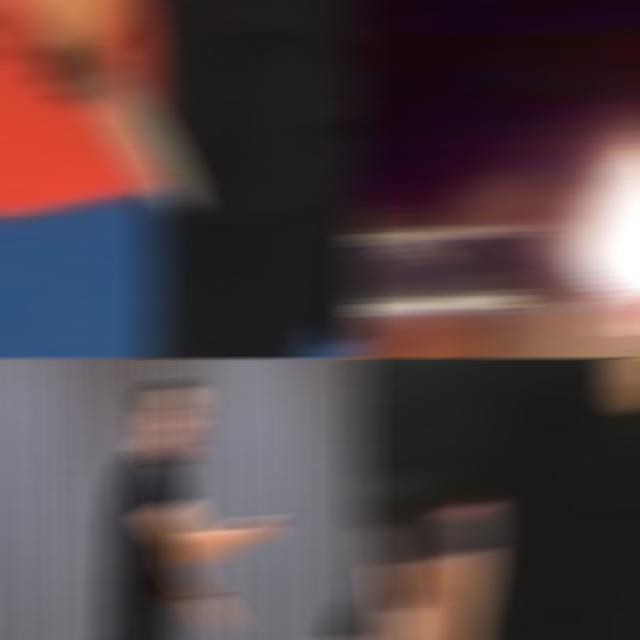Knife: (78, 54, 196, 214)
Knife_Handle: (349, 95, 640, 350), (4, 0, 196, 213), (235, 510, 284, 545)
